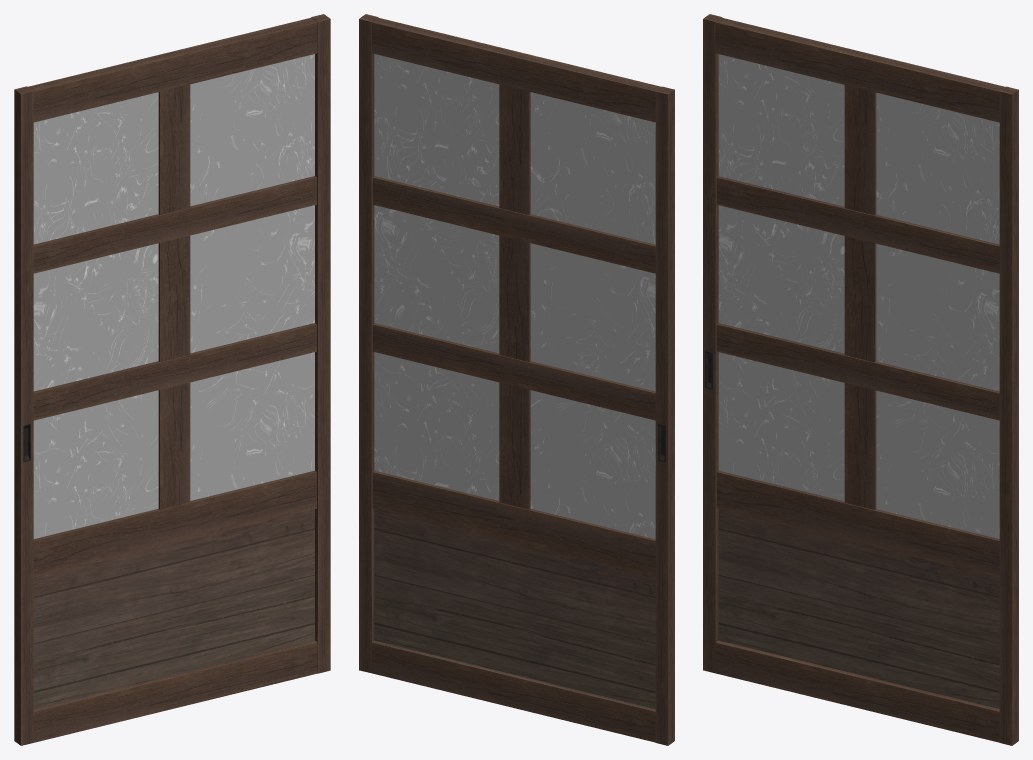
The model's file is hikido03dr.fbx.
3 views of the same model, side by side, from view 1: azimuth 30°, elevation 25°; view 2: azimuth 150°, elevation 25°; view 3: azimuth 330°, elevation 25° (orthographic).
Visible parts, largest first — view 1: hikido03dr; view 2: hikido03dr; view 3: hikido03dr.
Boxes of the visible parts, <box> form: hikido03dr: <box>14,14,330,745</box>; hikido03dr: <box>359,14,674,745</box>; hikido03dr: <box>703,14,1018,745</box>.
Size of the model in its own units: 110 by 221 by 4.3.
